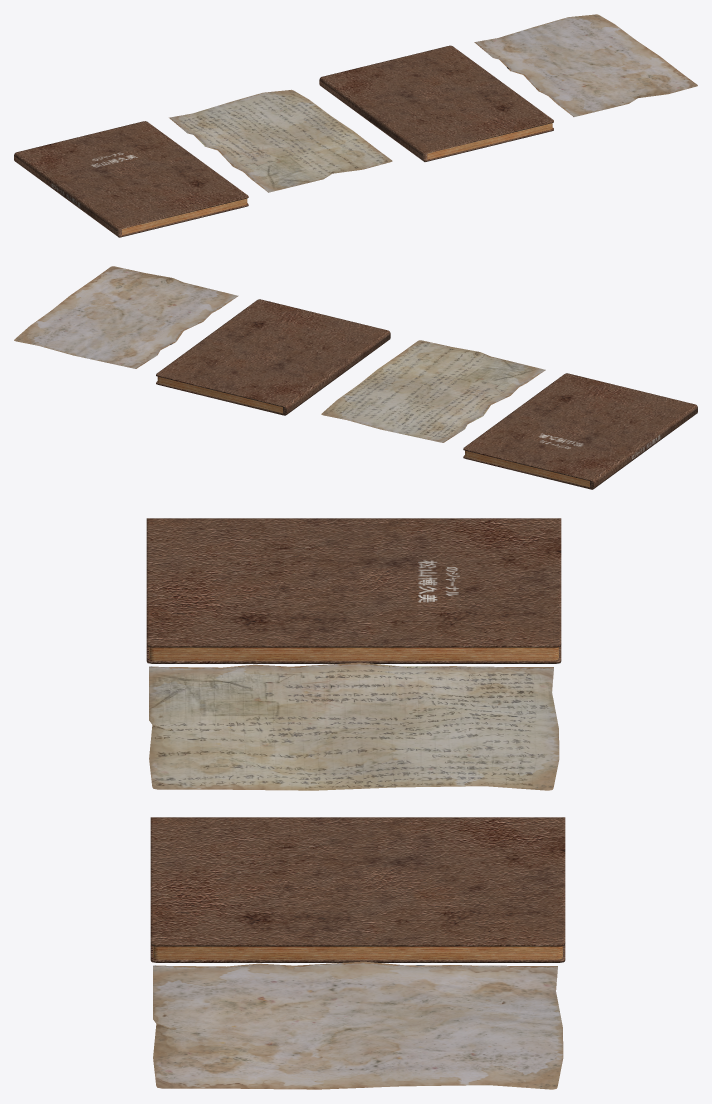
The model's file is note_page.glb.
3 renders of one model, top to bottom at view 1: azimuth 30°, elevation 25°; view 2: azimuth 150°, elevation 25°; view 3: azimuth 270°, elevation 25°, orthographic. The views are drawn at different scales.
Visible parts, largest first — view 1: Cube_0, Cube.002_2, Cube.003_3, Cube.001_1; view 2: Cube.002_2, Cube_0, Cube.003_3, Cube.001_1; view 3: Cube_0, Cube.002_2, Cube.003_3, Cube.001_1.
Part boxes in pixels (x1,y1,x2,y2): Cube_0: [14, 121, 248, 237]; Cube.002_2: [319, 45, 553, 161]; Cube.003_3: [474, 14, 697, 116]; Cube.001_1: [169, 89, 392, 192]; Cube.002_2: [156, 299, 390, 415]; Cube_0: [463, 373, 697, 489]; Cube.003_3: [14, 266, 238, 368]; Cube.001_1: [321, 340, 545, 442]; Cube_0: [146, 518, 561, 663]; Cube.002_2: [150, 817, 565, 962]; Cube.003_3: [153, 961, 563, 1089]; Cube.001_1: [149, 662, 559, 790].
Size of the model in its own units: 9.16 by 0.1668 by 2.84.
Materials: 2 (2 with a texture image).
